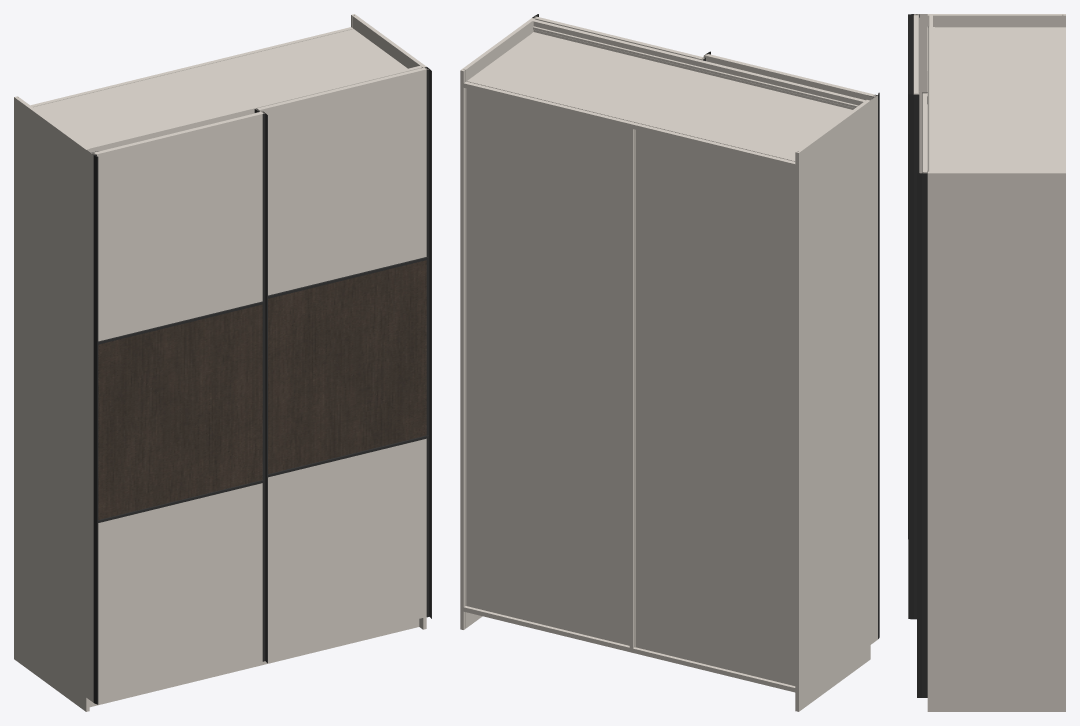
Rendered from Wardrobe.fbx.
3 views of the same model, side by side, from view 1: azimuth 30°, elevation 25°; view 2: azimuth 150°, elevation 25°; view 3: azimuth 270°, elevation 25° (orthographic). The views are drawn at different scales.
Visible parts, largest first — view 1: Wardrobe; view 2: Wardrobe; view 3: Wardrobe.
Part boxes in pixels (box(x1,y1,x2,y2)): Wardrobe: box(14, 14, 431, 711); Wardrobe: box(460, 14, 879, 711); Wardrobe: box(908, 14, 1065, 711).
Bounding box in the file's own units: 153 × 241 × 64.
Materials: 2 (1 with a texture image).
